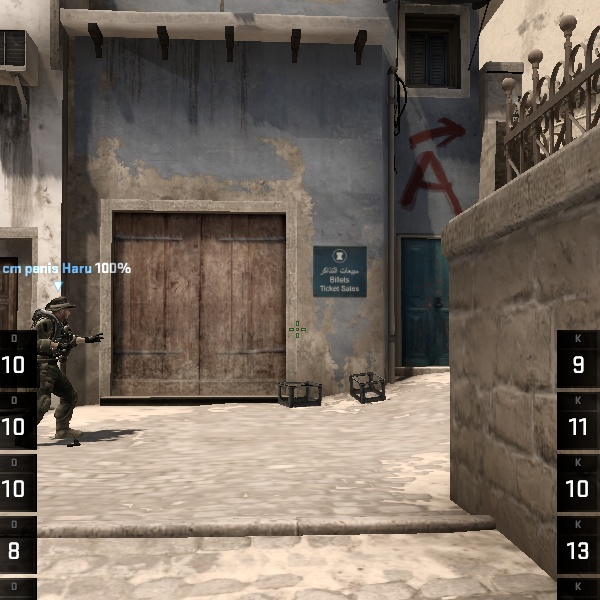t_head: (42, 294, 76, 330)
